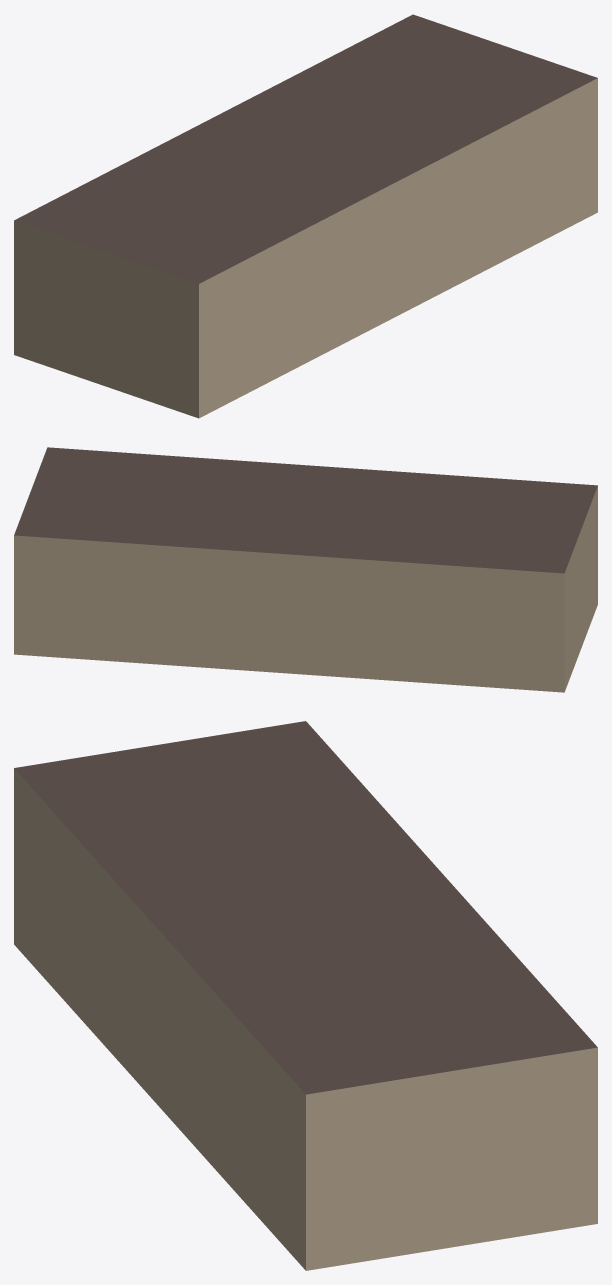
3 renders of one model, top to bottom at view 1: azimuth 30°, elevation 25°; view 2: azimuth 150°, elevation 25°; view 3: azimuth 270°, elevation 25°, orthographic. The views are drawn at different scales.
Visible parts, largest first — view 1: HP-w859078945; view 2: HP-w859078945; view 3: HP-w859078945.
Boxes of the visible parts, box(x1,y1,x2,y2) form: HP-w859078945: box(14, 14, 597, 418); HP-w859078945: box(14, 447, 597, 692); HP-w859078945: box(14, 721, 597, 1270).
Bounding box in the file's own units: 40.89 × 9 × 27.01.
